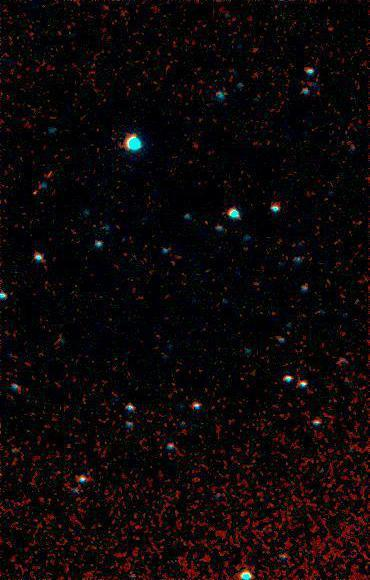star: (192, 206, 222, 236)
